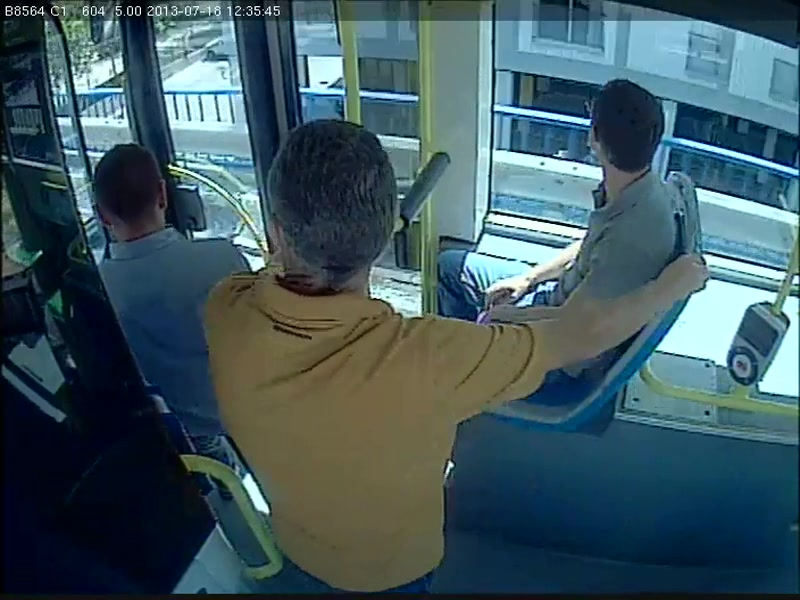Head: (260, 112, 408, 292), (585, 77, 676, 180), (92, 136, 173, 237)
